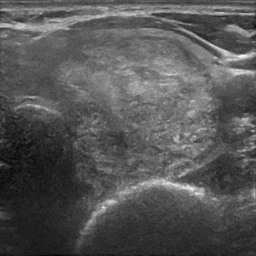mass: (71, 37, 216, 179)
